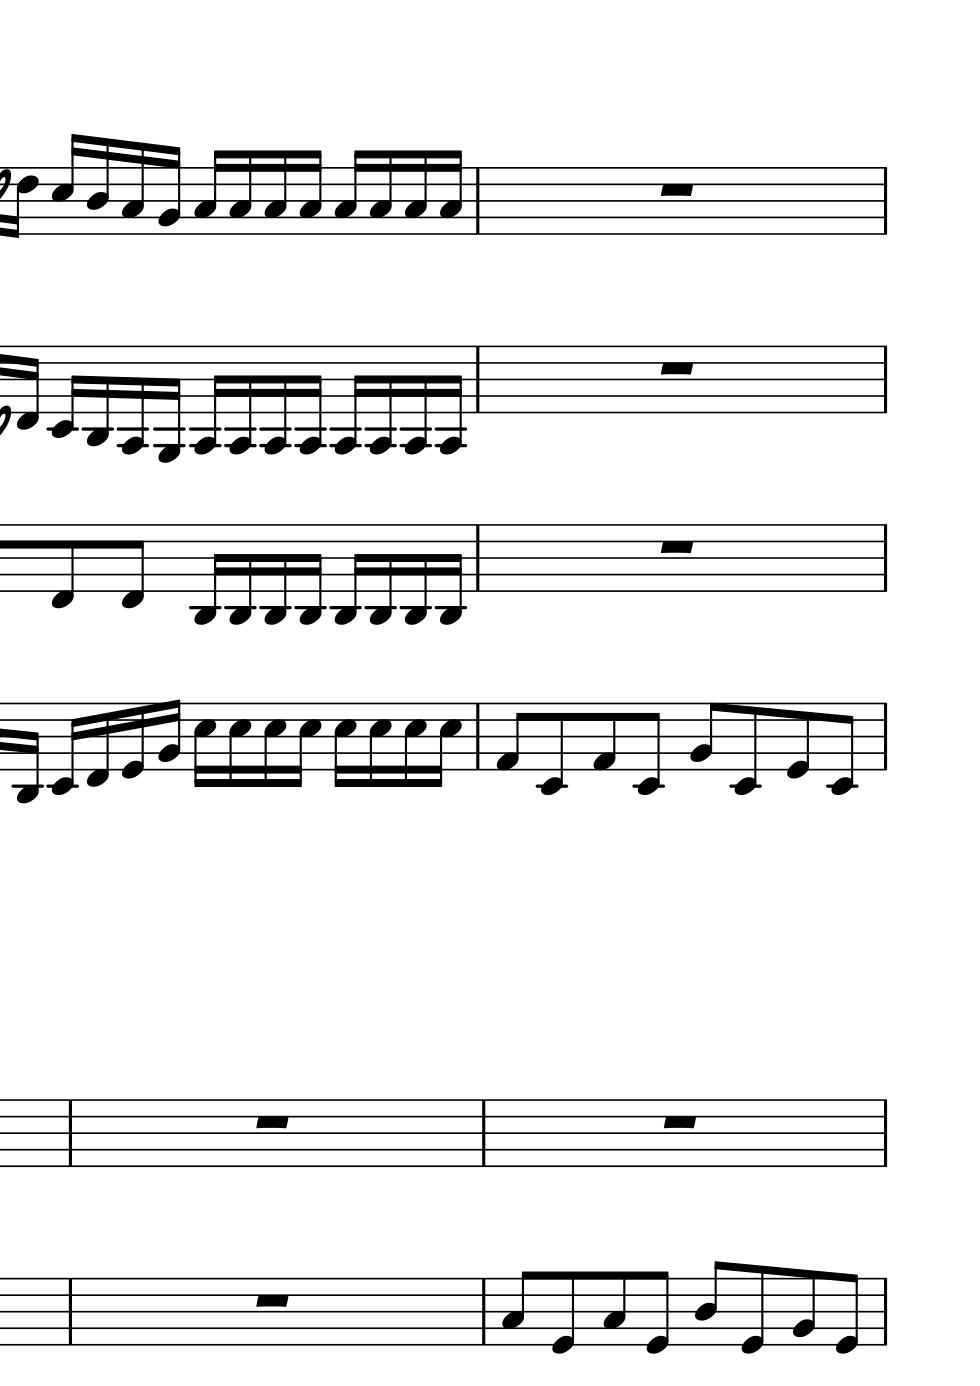16_-1: (85, 700, 111, 788)
16_-2: (48, 345, 81, 441), (49, 701, 80, 797)
16_-3: (190, 522, 224, 628), (331, 524, 365, 626), (401, 522, 431, 625), (13, 701, 41, 806), (83, 345, 111, 449), (261, 523, 290, 626), (366, 524, 395, 627), (436, 523, 463, 627), (226, 524, 253, 627), (296, 524, 323, 627)
16_-4: (117, 343, 148, 455), (192, 344, 223, 457), (224, 343, 255, 456), (368, 343, 399, 456), (404, 343, 435, 456), (262, 343, 293, 455), (333, 343, 364, 455), (436, 343, 466, 455), (296, 343, 323, 456)
16_-5: (154, 344, 185, 463)
16_0: (119, 700, 147, 779)
16_2: (155, 143, 181, 236), (156, 697, 183, 774)
16_3: (191, 147, 225, 236), (331, 148, 365, 236), (118, 140, 146, 236), (297, 147, 323, 236), (227, 148, 253, 236), (262, 148, 288, 236), (367, 148, 393, 236), (402, 150, 428, 236), (438, 150, 463, 236)
16_4: (84, 136, 111, 236)
16_5: (49, 131, 82, 236), (291, 701, 322, 789), (433, 702, 463, 790), (191, 701, 217, 790), (227, 701, 252, 790), (261, 701, 286, 790), (332, 701, 357, 789), (367, 701, 392, 789), (402, 701, 426, 789)
16_6: (5, 166, 39, 240)
8_-1: (118, 522, 147, 611), (49, 522, 76, 612), (15, 344, 40, 432)
8_-2: (536, 702, 567, 799), (729, 701, 760, 797), (826, 701, 857, 797), (633, 702, 663, 797)
8_0: (737, 1264, 767, 1358), (644, 1269, 672, 1358), (549, 1270, 578, 1357), (833, 1271, 861, 1356), (784, 700, 812, 780)
8_1: (493, 701, 526, 773), (590, 701, 617, 772)
8_2: (687, 701, 720, 772), (789, 1268, 818, 1348)
8_3: (500, 1269, 533, 1347), (600, 1269, 627, 1348)
8_4: (693, 1259, 727, 1347)
Rests1: (655, 178, 698, 200), (655, 356, 698, 378), (655, 536, 698, 557), (251, 1111, 293, 1131), (251, 1289, 293, 1310), (658, 1112, 700, 1131)
Single_barline: (468, 168, 487, 234), (876, 345, 894, 413), (468, 346, 486, 414), (468, 525, 486, 592), (474, 1100, 492, 1166), (475, 1278, 493, 1345), (876, 166, 893, 235), (876, 1099, 893, 1166), (62, 1100, 78, 1166), (62, 1279, 78, 1345), (469, 702, 485, 771), (877, 524, 893, 592), (877, 1278, 893, 1346), (878, 703, 892, 771)
